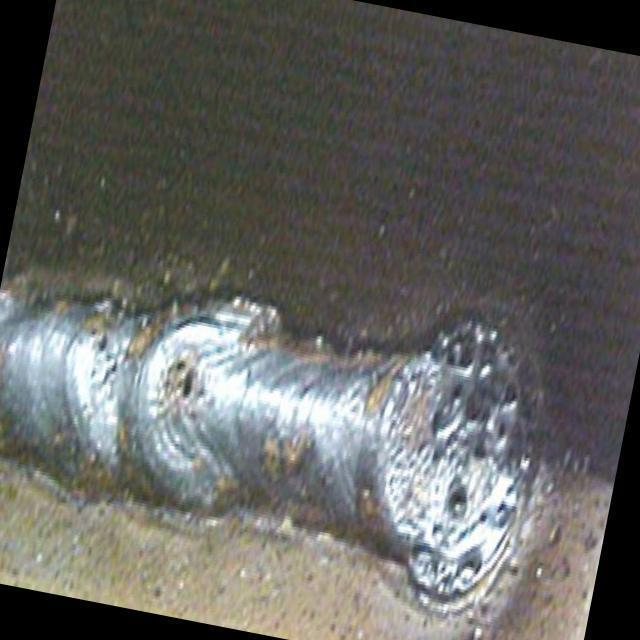defect: (417, 325, 523, 525), (92, 315, 127, 393), (175, 354, 200, 414)
